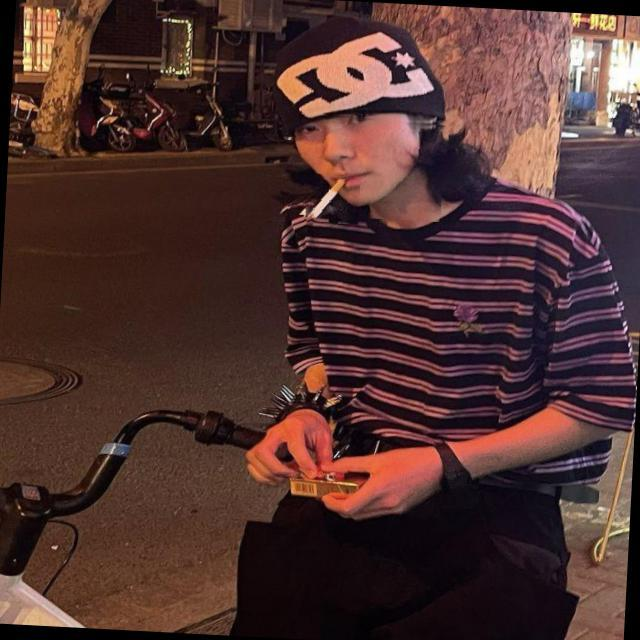cigarette: (302, 172, 361, 225)
